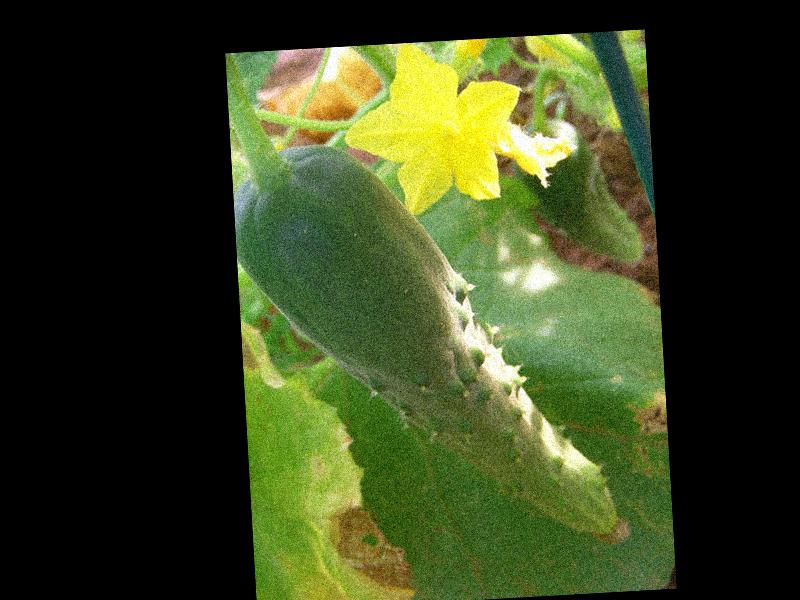Cucumber: (232, 128, 631, 564)
